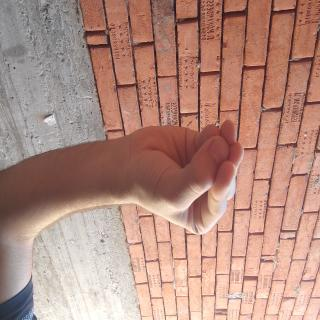HA: (84, 95, 177, 285)
